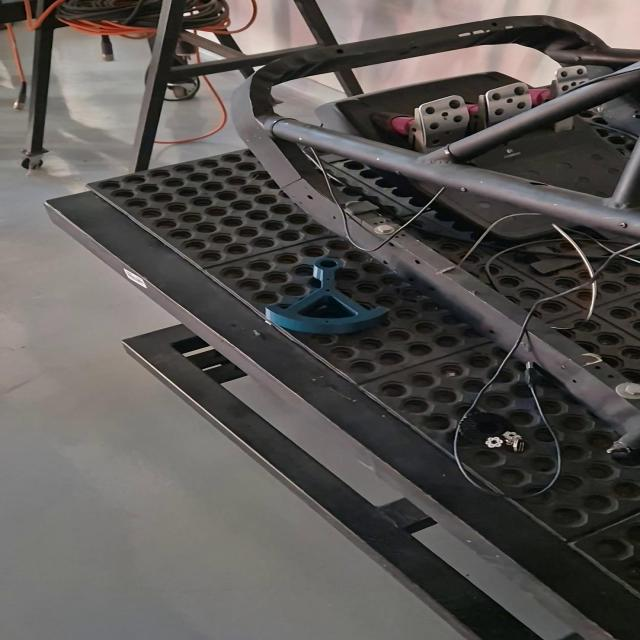haptic: (263, 257, 392, 335)
